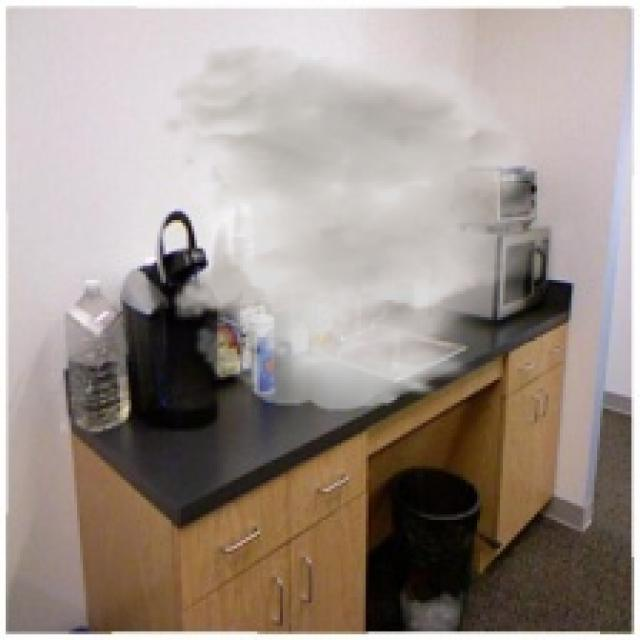smoke: (160, 43, 586, 411)
